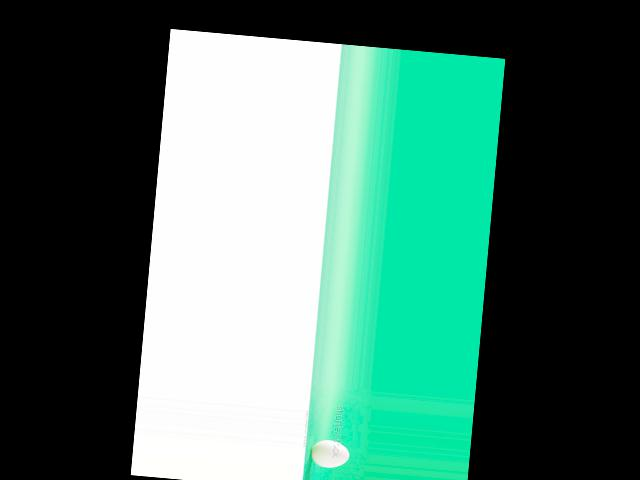egg: (309, 439, 350, 469)
